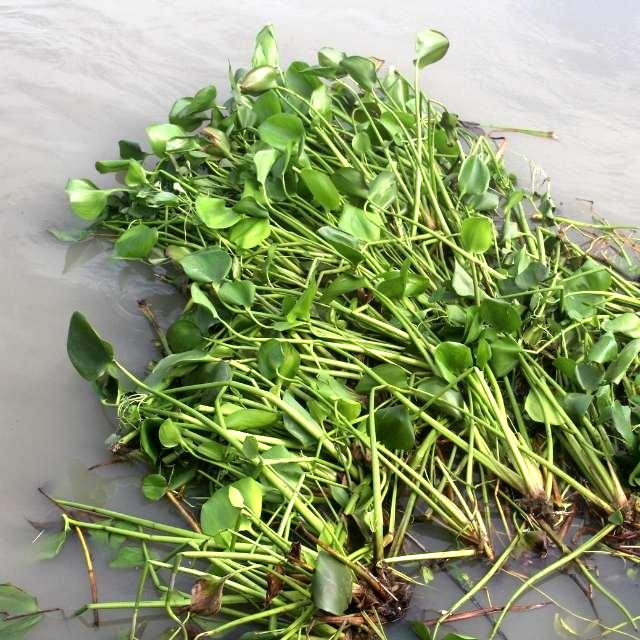water-hyacinth: (1, 37, 640, 639)
